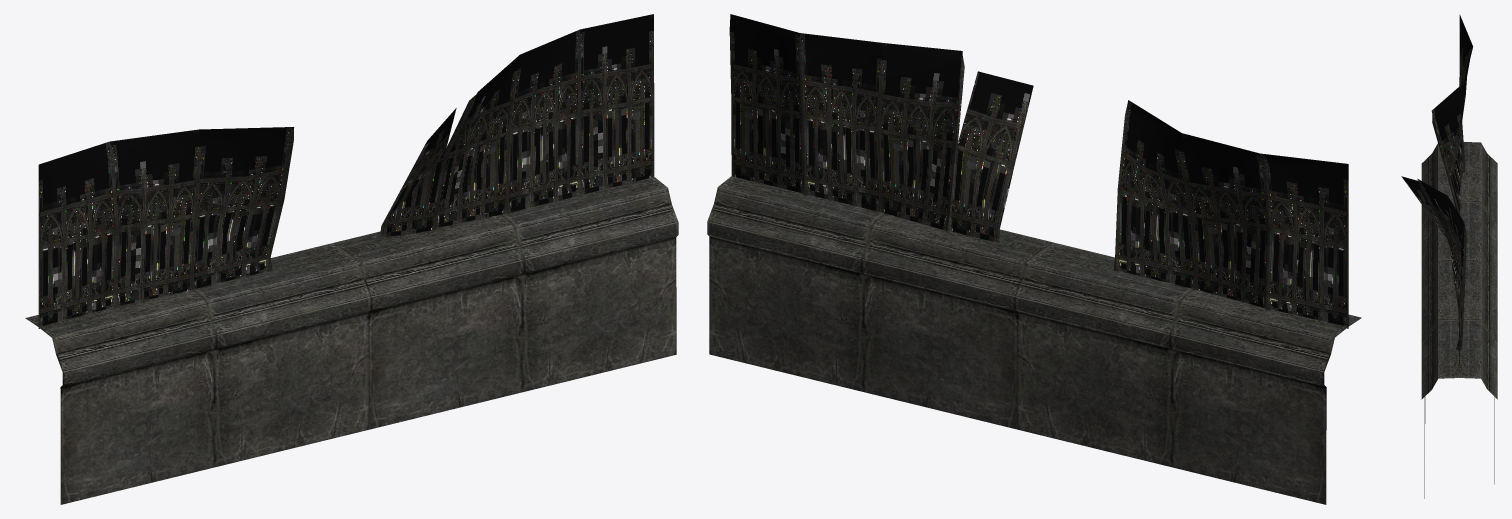
File: eso_gu11_GraveyardFence6-transformed.glb
3 renders of one model, left to right at view 1: azimuth 30°, elevation 25°; view 2: azimuth 150°, elevation 25°; view 3: azimuth 270°, elevation 25°, orthographic. The views are drawn at different scales.
Parts seen in each view (by area): view 1: default; view 2: default; view 3: default.
Part boxes in pixels (box(x1,y1,x2,y2)): default: box(25, 14, 678, 504); default: box(707, 14, 1361, 504); default: box(1401, 14, 1497, 498).
Bounding box in the file's own units: 10.25 × 5.15 × 1.77.
1 material, 1 textured.
